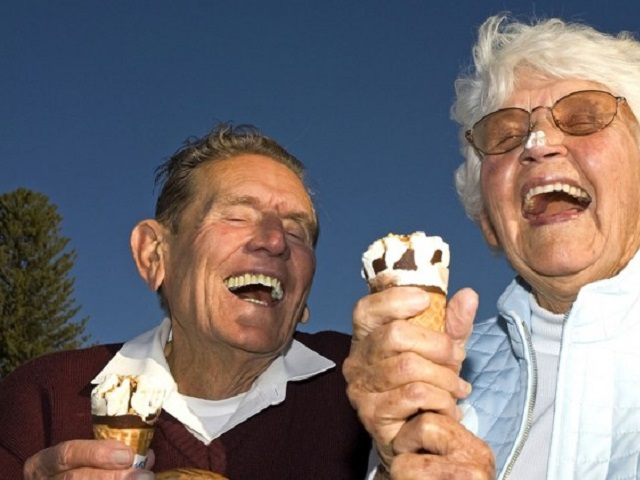not_cigarette: (345, 225, 475, 359), (76, 374, 170, 460)
